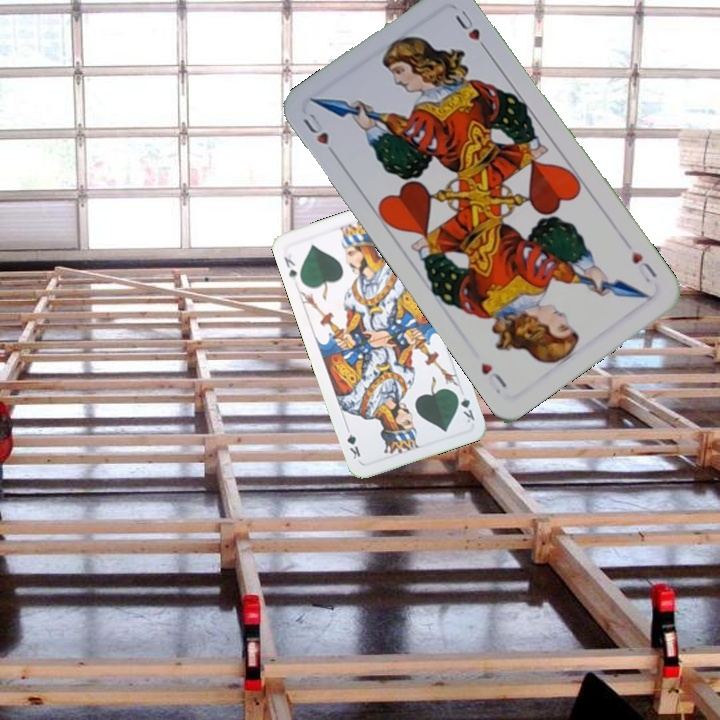GK: (452, 388, 477, 425), (280, 252, 300, 283)
HU: (298, 109, 340, 161), (627, 247, 660, 286)
